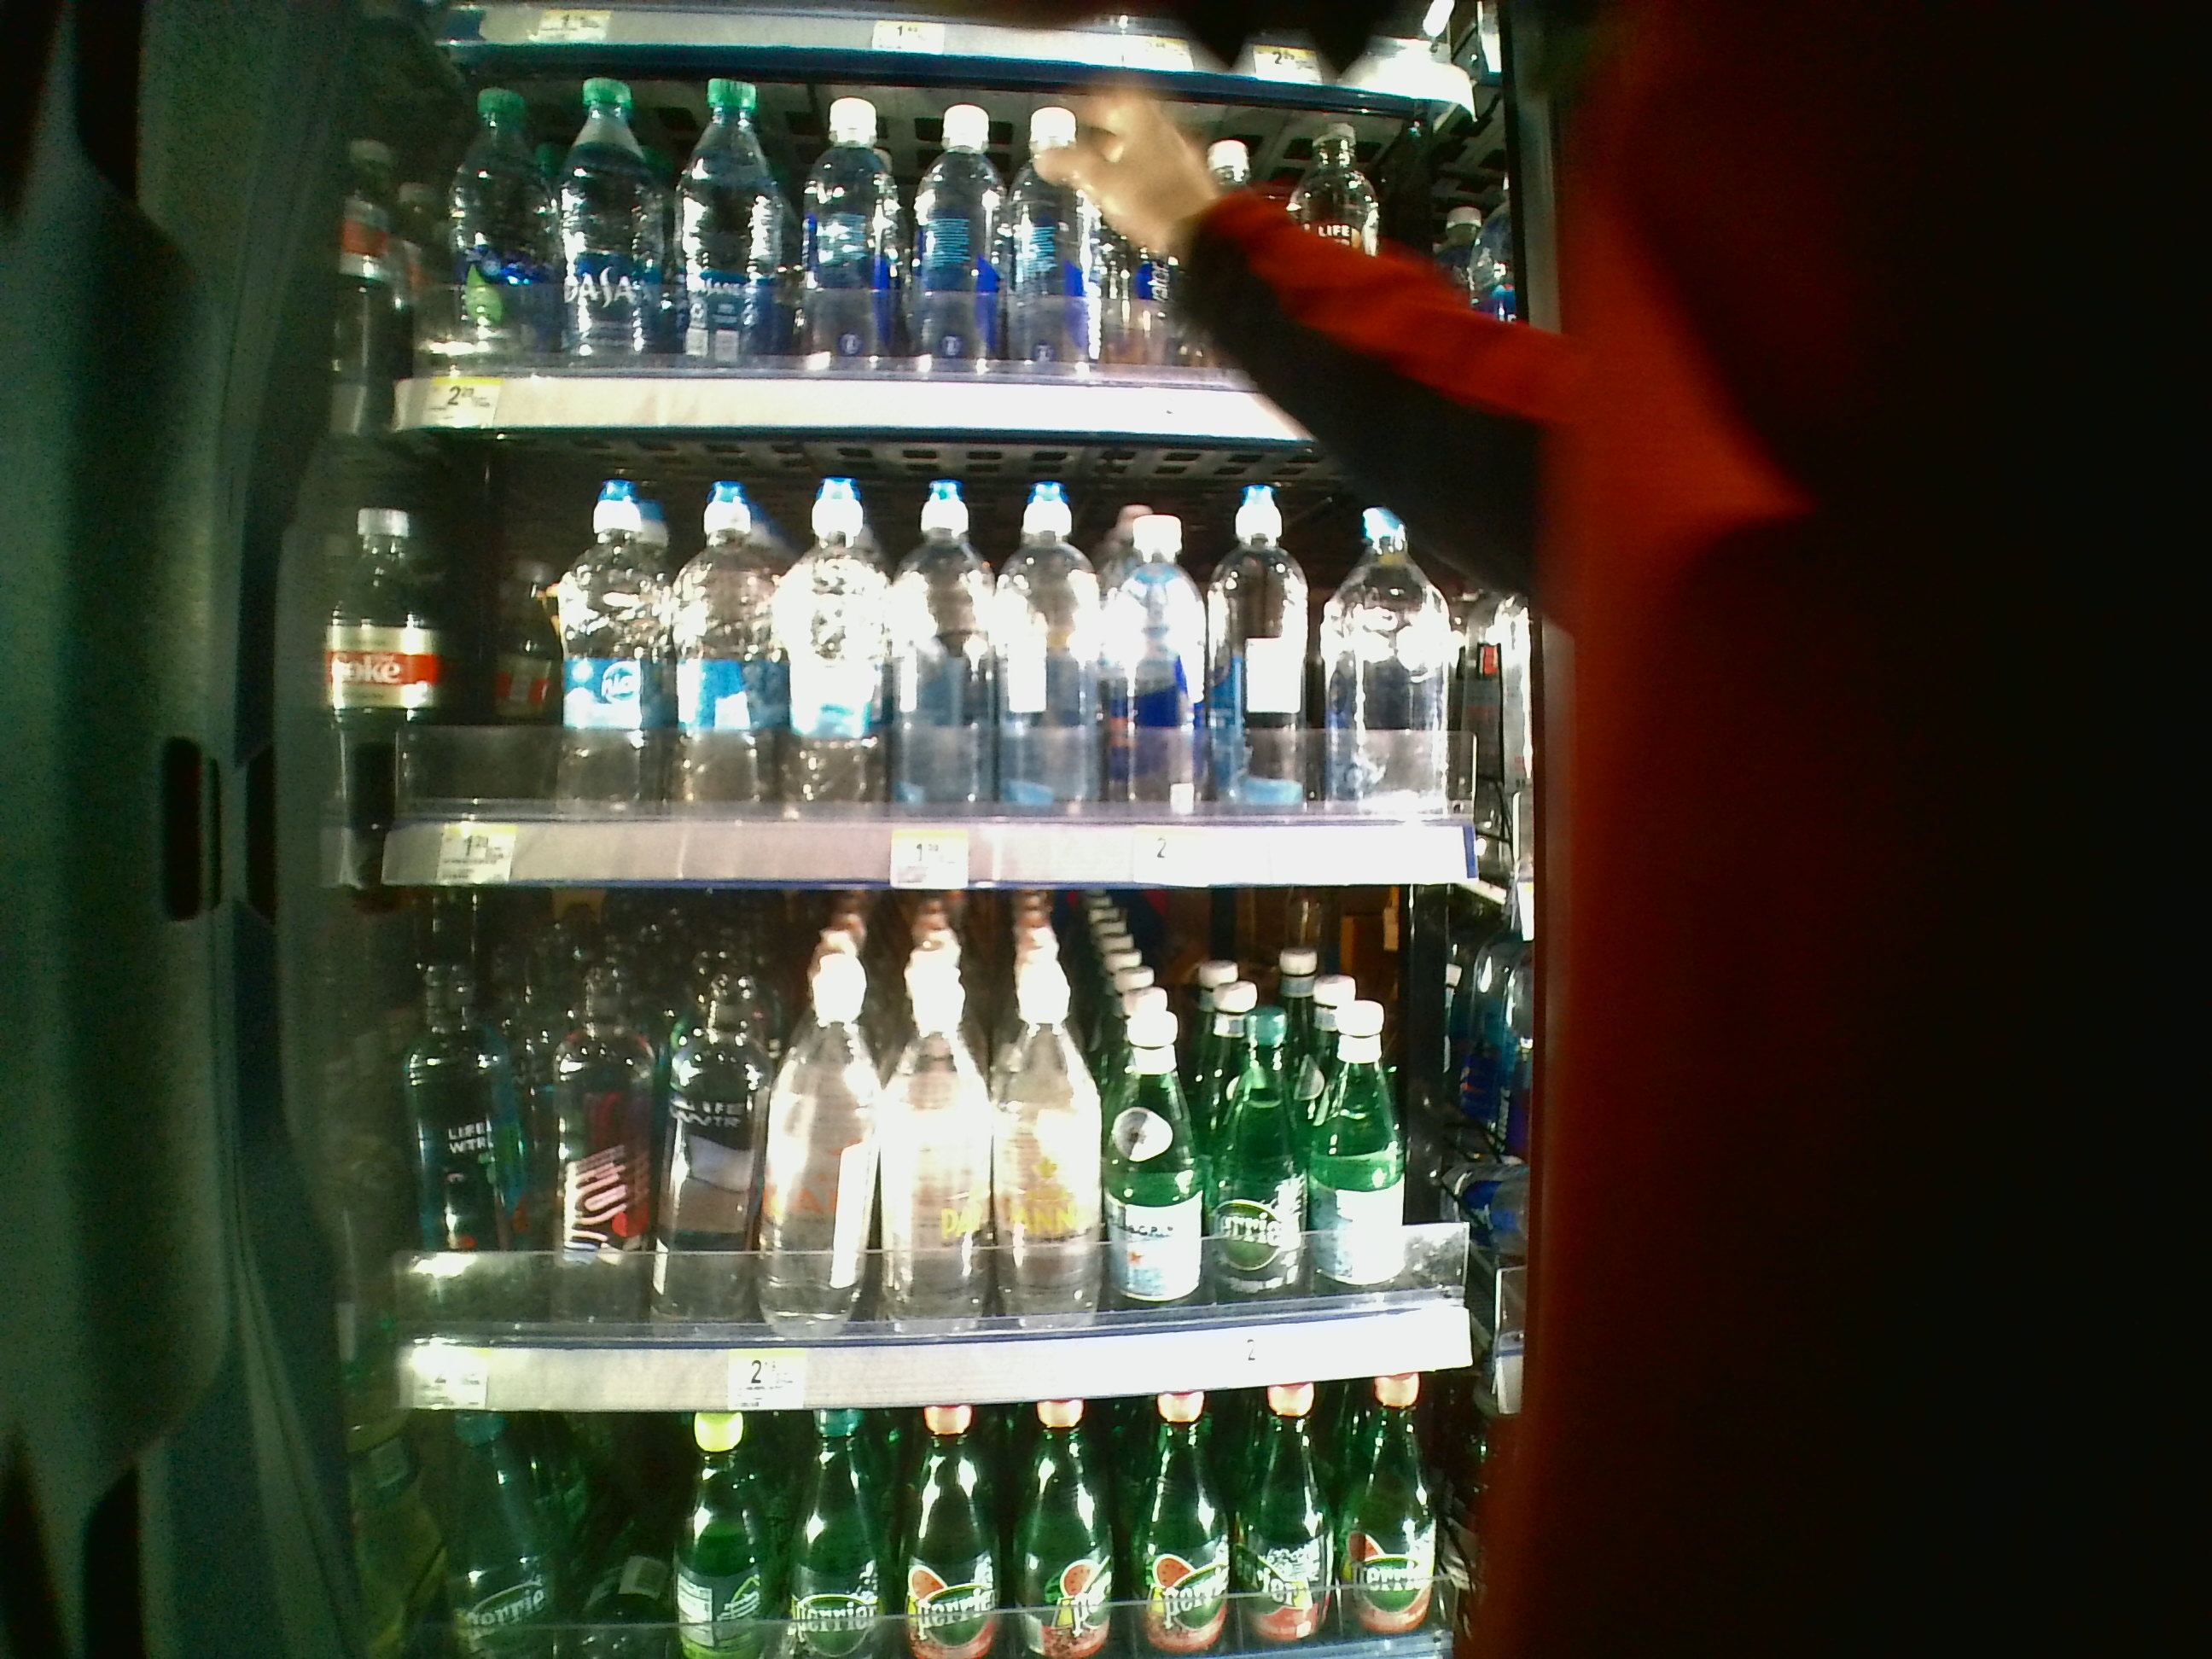shelf: (369, 884, 1521, 1412)
